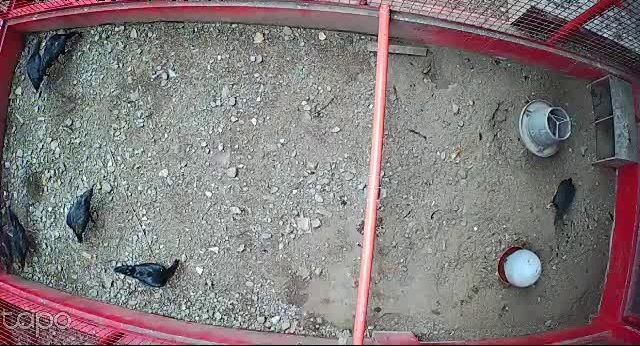Chicken: (112, 253, 182, 288), (3, 208, 38, 276), (65, 180, 99, 245), (40, 27, 81, 77), (546, 175, 578, 236), (24, 35, 50, 95)
Drinker: (497, 245, 543, 291)
Feeder: (518, 98, 572, 158)
